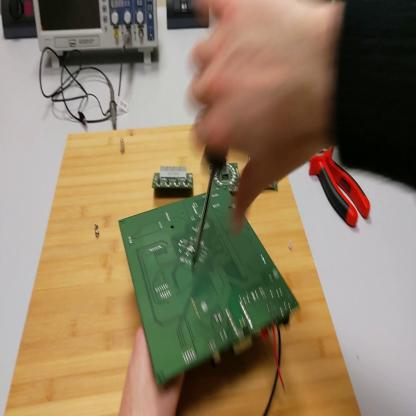hand: (185, 2, 341, 228), (117, 324, 184, 416)
low voltage board: (119, 185, 299, 410)
oscilloscope: (33, 1, 161, 71)
oscilloscope probe tip: (108, 80, 119, 129)
pliers: (310, 150, 373, 226)
screwdriver-: (193, 152, 230, 269)
socket: (2, 1, 38, 40)
working area: (5, 124, 360, 411)
